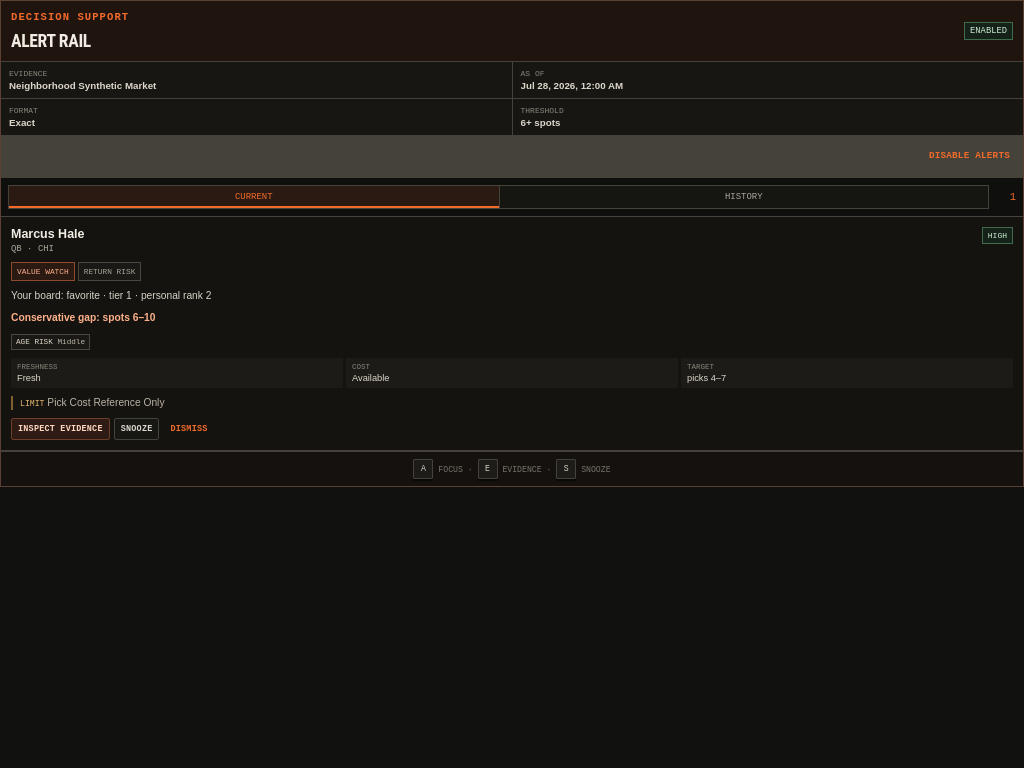
Scenario: DraftAlertRail › requires confirmation to snooze and sends the exact lifecycle guard
The width and height of the screenshot is (1024, 768).
Click the button "Snooze": (137, 429) [114, 418, 160, 440]
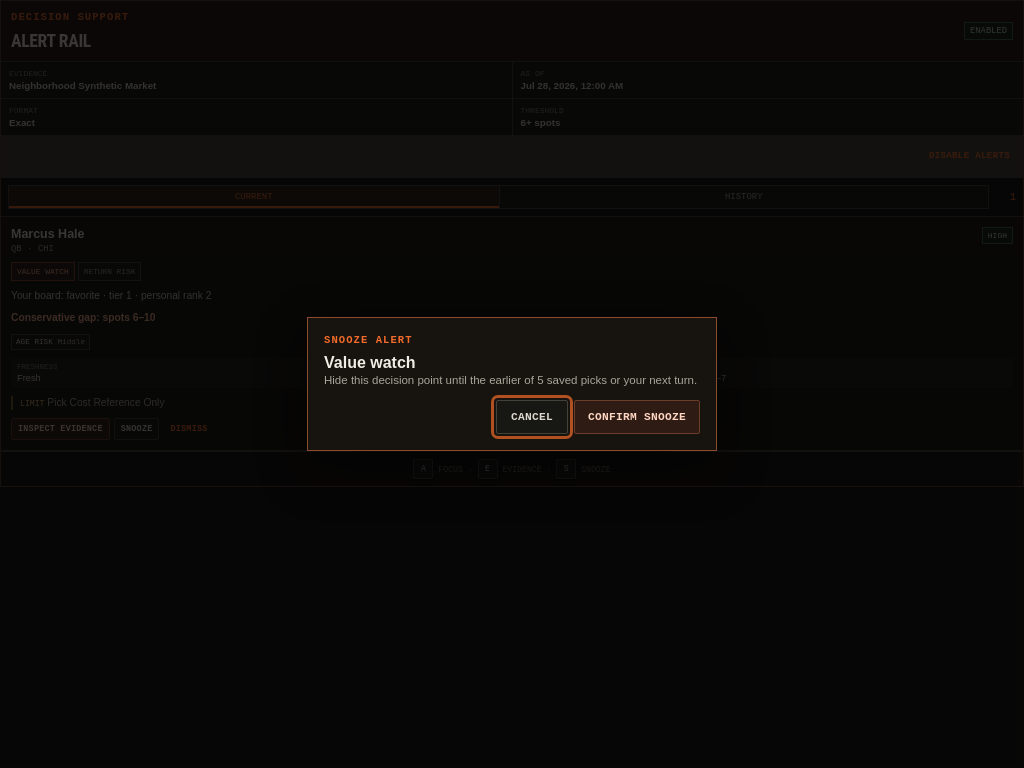
Check: the dialog "Snooze alert" shows "5 saved picks or your next turn"
Click the button "Confirm snooze": (637, 417) [574, 400, 700, 434]
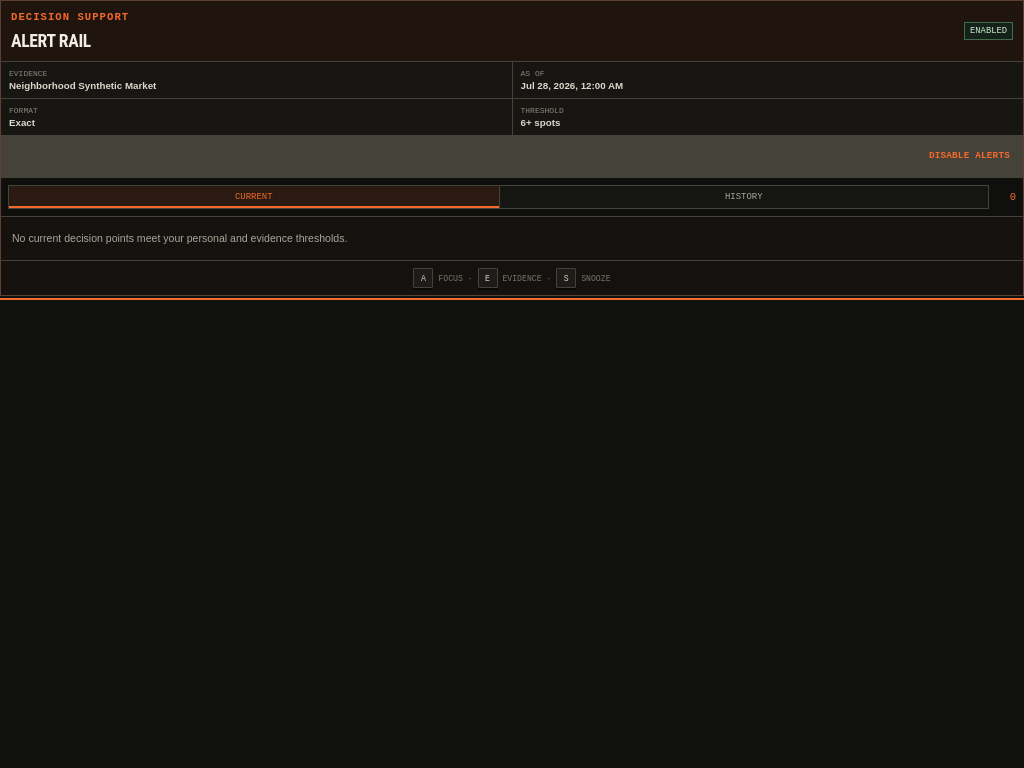
Check: the text "No current decision points meet your personal and evidence thresholds." is shown, box [12, 232, 347, 244]
